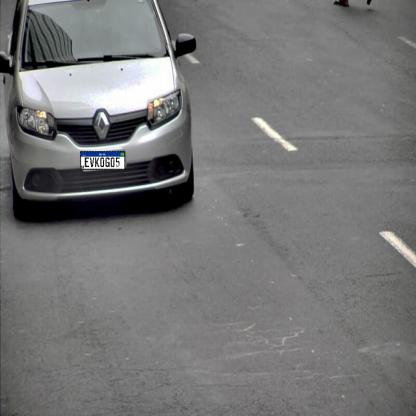PlacaM: (80, 151, 125, 170)
